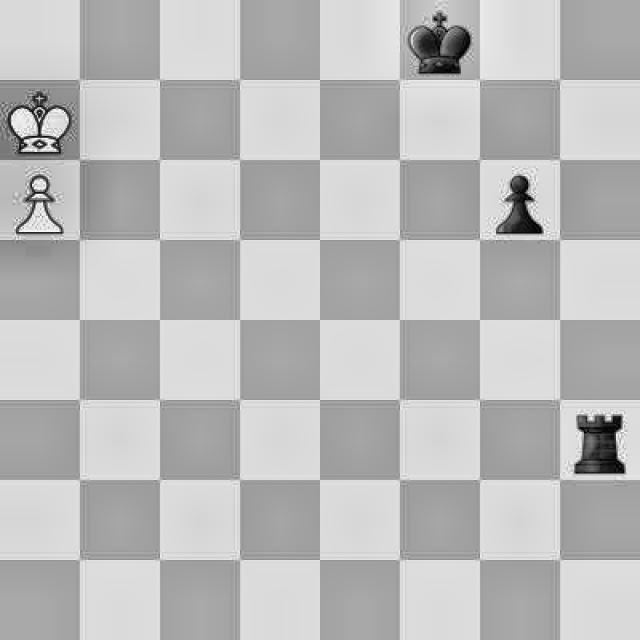black king: (403, 6, 475, 75)
black pawn: (491, 174, 547, 237)
black rook: (571, 405, 628, 477)
white king: (9, 85, 74, 156)
white pawn: (5, 170, 86, 240)
